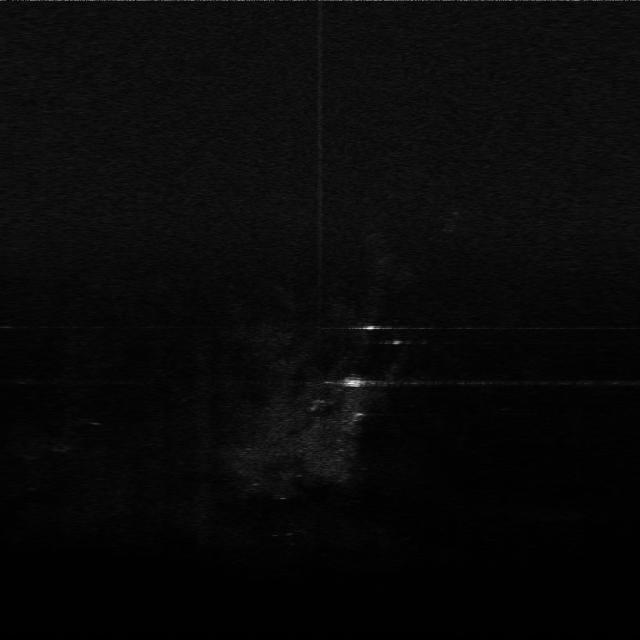rov: (338, 376, 368, 390)
